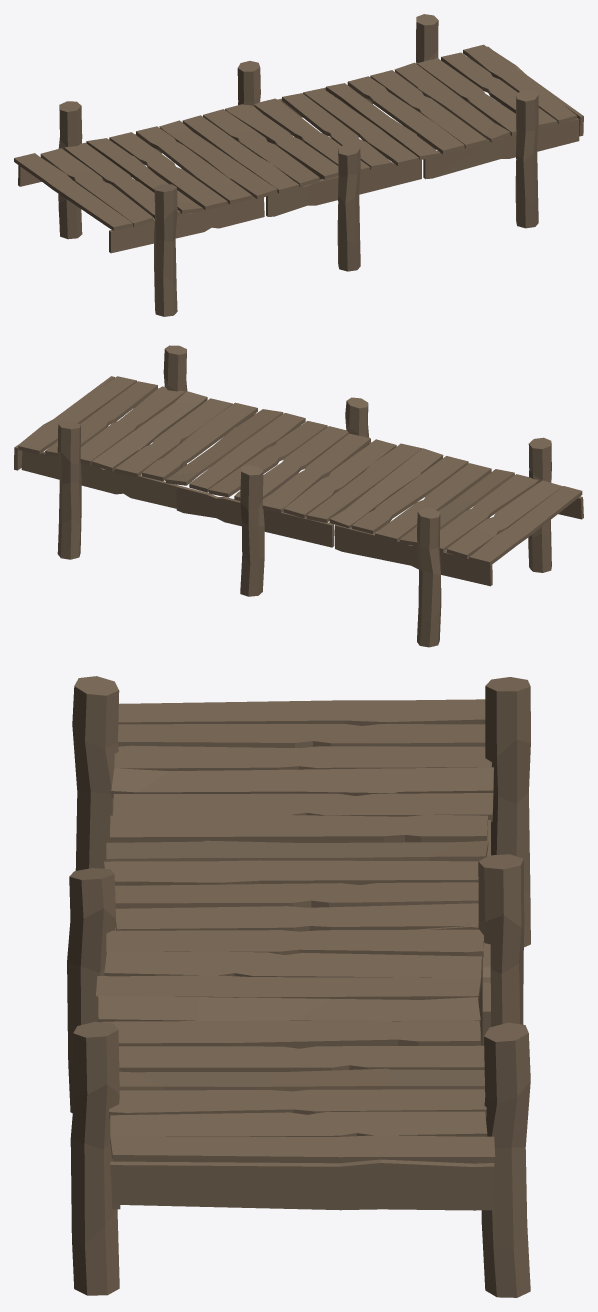
File: ground_wood.fbx
3 renders of one model, top to bottom at view 1: azimuth 30°, elevation 25°; view 2: azimuth 150°, elevation 25°; view 3: azimuth 270°, elevation 25°, orthographic. The views are drawn at different scales.
Parts seen in each view (by area): view 1: ground_wood; view 2: ground_wood; view 3: ground_wood.
Boxes of the visible parts, x1,y1,x2,y2 form: ground_wood: [14, 14, 583, 316]; ground_wood: [14, 345, 583, 647]; ground_wood: [67, 676, 530, 1297].
Size of the model in its own units: 10.02 by 2.62 by 4.26.
